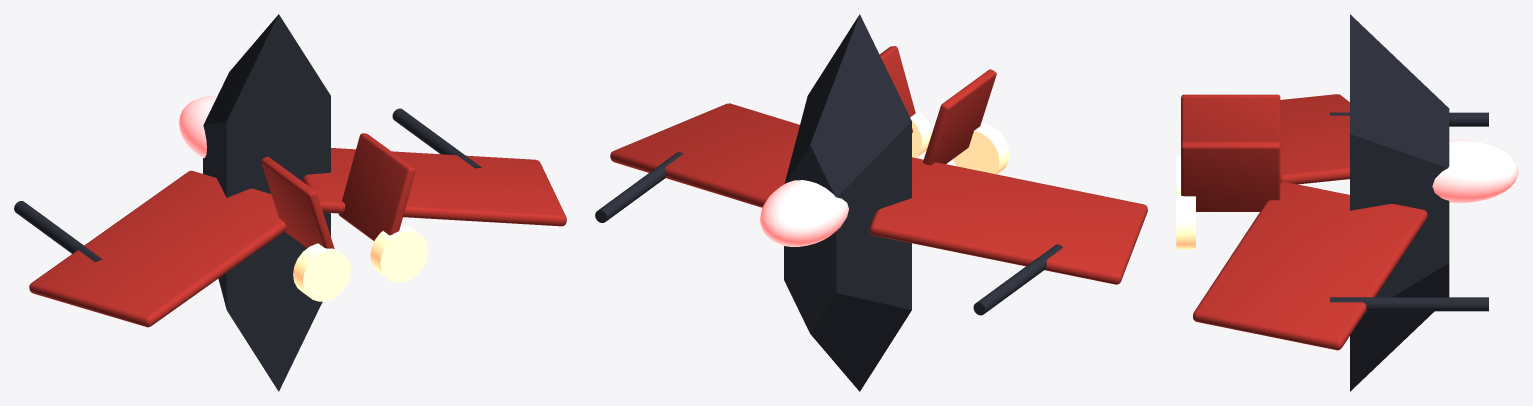
The model's file is pirate_raider.glb.
3 renders of one model, left to right at view 1: azimuth 30°, elevation 25°; view 2: azimuth 150°, elevation 25°; view 3: azimuth 270°, elevation 25°, orthographic.
Parts seen in each view (by area): view 1: Body, Wing-1, Wing1, Fin1, Fin-1, Engine, Engine.001, Cockpit, Gun-1, Gun1; view 2: Body, Wing-1, Wing1, Cockpit, Fin-1, Engine, Gun-1, Gun1, Fin1, Engine.001; view 3: Wing1, Body, Fin1, Wing-1, Fin-1, Cockpit, Gun1, Engine.001, Gun-1.
Part boxes in pixels (bbox=[...]): Body: bbox=[203, 14, 330, 391]; Wing-1: bbox=[29, 170, 286, 327]; Wing1: bbox=[302, 148, 566, 226]; Fin1: bbox=[338, 133, 415, 240]; Fin-1: bbox=[261, 156, 334, 248]; Engine: bbox=[293, 243, 350, 301]; Engine.001: bbox=[370, 224, 428, 282]; Cockpit: bbox=[179, 96, 217, 158]; Gun-1: bbox=[14, 201, 101, 261]; Gun1: bbox=[392, 108, 481, 168]; Body: bbox=[784, 14, 911, 391]; Wing-1: bbox=[869, 157, 1147, 284]; Wing1: bbox=[610, 103, 799, 207]; Cockpit: bbox=[760, 180, 848, 246]; Fin-1: bbox=[923, 69, 996, 165]; Engine: bbox=[953, 123, 1009, 174]; Gun-1: bbox=[973, 244, 1062, 315]; Gun1: bbox=[595, 152, 682, 222]; Fin1: bbox=[879, 46, 915, 132]; Engine.001: bbox=[910, 107, 931, 157]; Wing1: bbox=[1193, 181, 1427, 350]; Body: bbox=[1350, 14, 1449, 391]; Fin1: bbox=[1181, 141, 1280, 211]; Wing-1: bbox=[1280, 94, 1349, 184]; Fin-1: bbox=[1181, 94, 1280, 144]; Cockpit: bbox=[1432, 139, 1518, 203]; Gun1: bbox=[1330, 297, 1488, 311]; Engine.001: bbox=[1176, 194, 1195, 249]; Gun-1: bbox=[1330, 112, 1488, 126].
Bounding box in the file's own units: 5.93 × 4.2 × 3.45.
